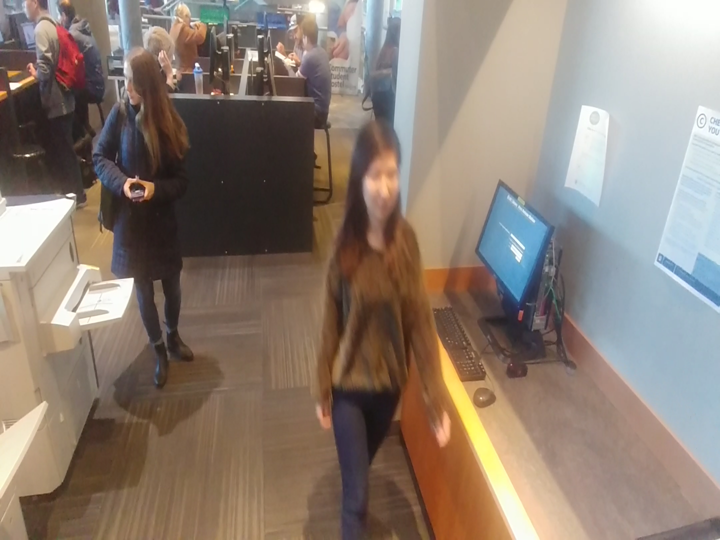face: (344, 107, 407, 258), (116, 41, 170, 129), (298, 13, 328, 56), (20, 0, 55, 29), (282, 8, 306, 48), (50, 0, 82, 27), (170, 0, 196, 31)
human: (308, 112, 457, 540), (89, 43, 200, 394), (21, 0, 89, 218), (362, 10, 405, 119), (296, 15, 335, 130)
